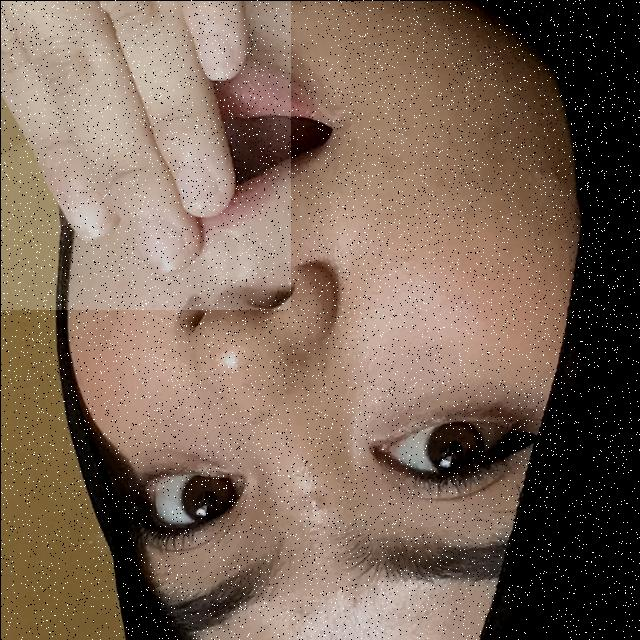ngantuk: (0, 0, 290, 309)
